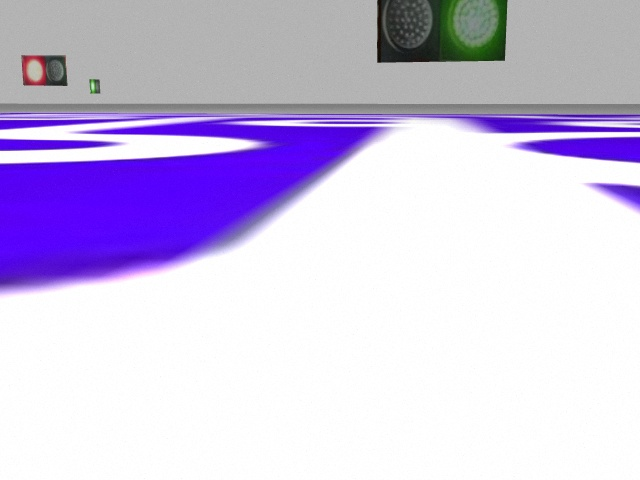green: (441, 1, 508, 61)
